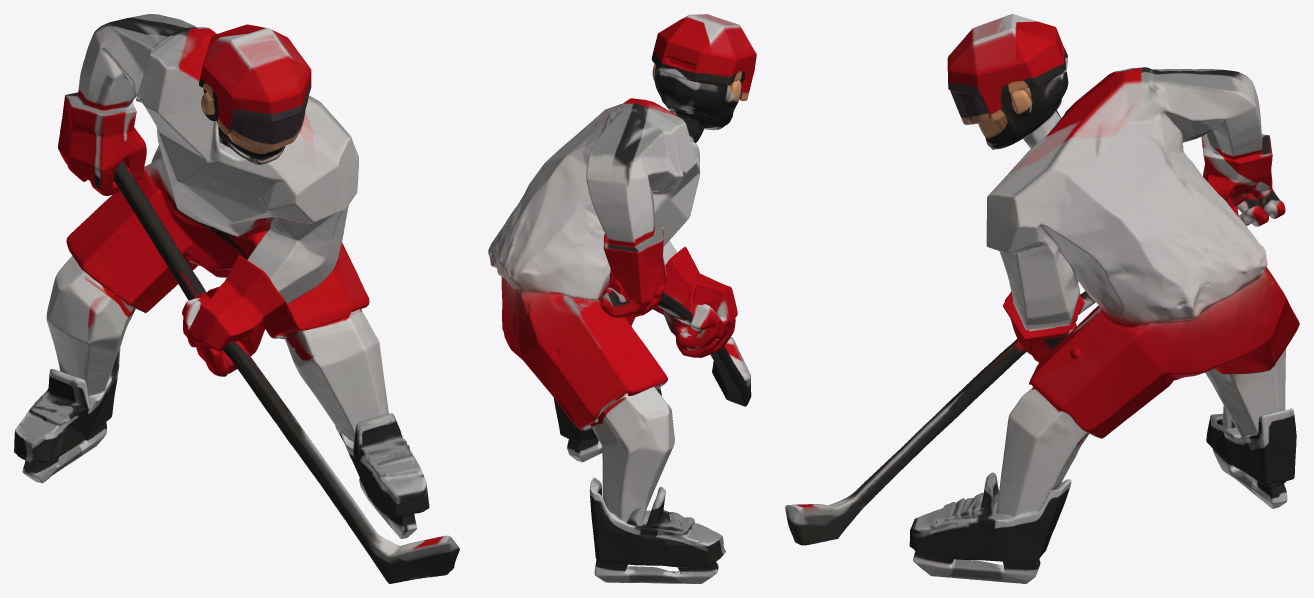
The model's file is tripo-h25-player.glb.
The picture shows the model from 3 angles, left to right: view 1: azimuth 30°, elevation 25°; view 2: azimuth 150°, elevation 25°; view 3: azimuth 270°, elevation 25°; orthographic projection. The views are drawn at different scales.
Visible parts, largest first — view 1: tripo_node_7f270581-14b7-48d0-9a8a-027f9ef7a1d1; view 2: tripo_node_7f270581-14b7-48d0-9a8a-027f9ef7a1d1; view 3: tripo_node_7f270581-14b7-48d0-9a8a-027f9ef7a1d1.
Part boxes in pixels (box(x1,y1,x2,y2)): tripo_node_7f270581-14b7-48d0-9a8a-027f9ef7a1d1: box(14, 14, 459, 583); tripo_node_7f270581-14b7-48d0-9a8a-027f9ef7a1d1: box(488, 14, 756, 583); tripo_node_7f270581-14b7-48d0-9a8a-027f9ef7a1d1: box(785, 14, 1299, 583).
Size of the model in its own units: 0.5585 by 1 by 0.9315.
Materials: 1 (1 with a texture image).
